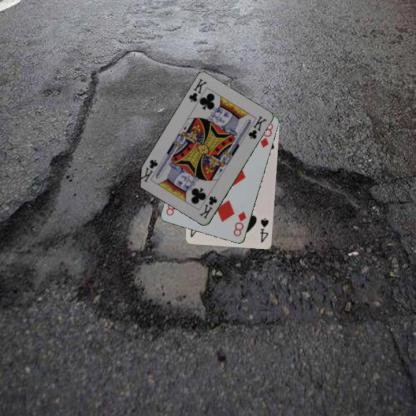4s: (257, 215, 270, 244)
8d: (231, 209, 248, 238)
Kc: (186, 76, 209, 104), (196, 194, 218, 220)
